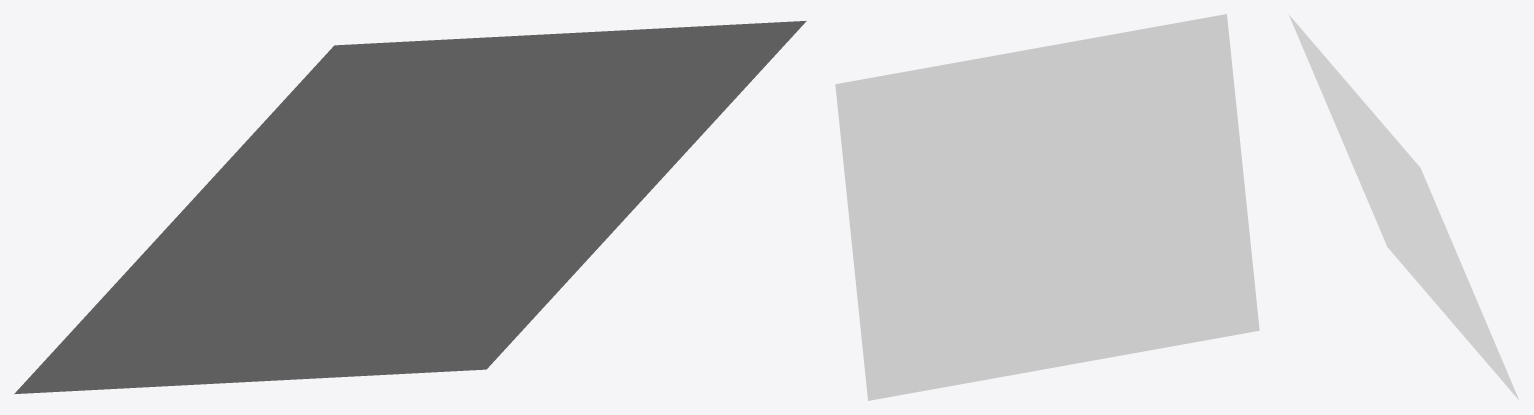
Rendered from Pfb_Soda_TelevisionRobot_Bind.fbx.
3 renders of one model, left to right at view 1: azimuth 30°, elevation 25°; view 2: azimuth 150°, elevation 25°; view 3: azimuth 270°, elevation 25°, orthographic. The views are drawn at different scales.
Parts seen in each view (by area): view 1: MAT_SodaRobot 1; view 2: MAT_SodaRobot 1; view 3: MAT_SodaRobot 1.
Boxes of the visible parts, <box> form: MAT_SodaRobot 1: <box>14,20,806,394</box>; MAT_SodaRobot 1: <box>835,14,1259,400</box>; MAT_SodaRobot 1: <box>1288,14,1519,400</box>.
Bounding box in the file's own units: 2.43 × 1.79 × 1.28.
Materials: 1 (1 with a texture image).
